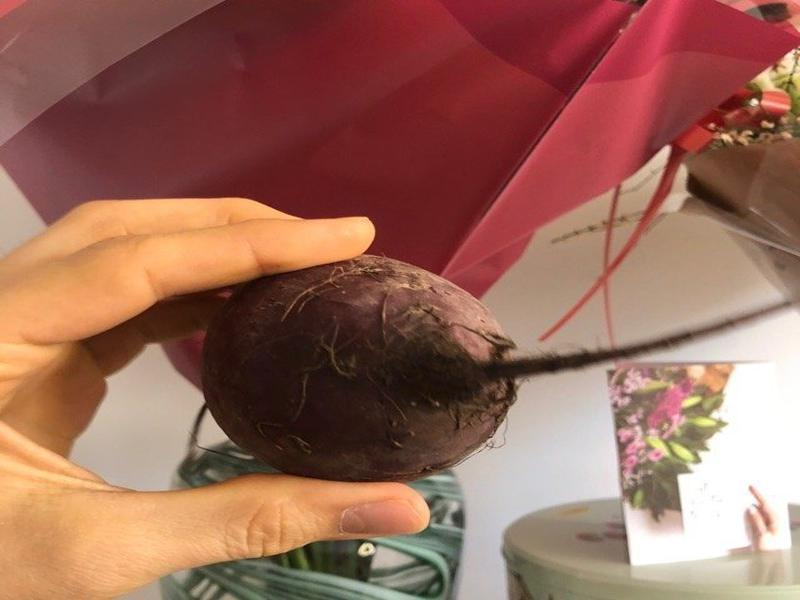Beet: (192, 255, 800, 483)
